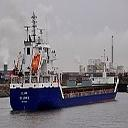Ships: (9, 13, 123, 114)
